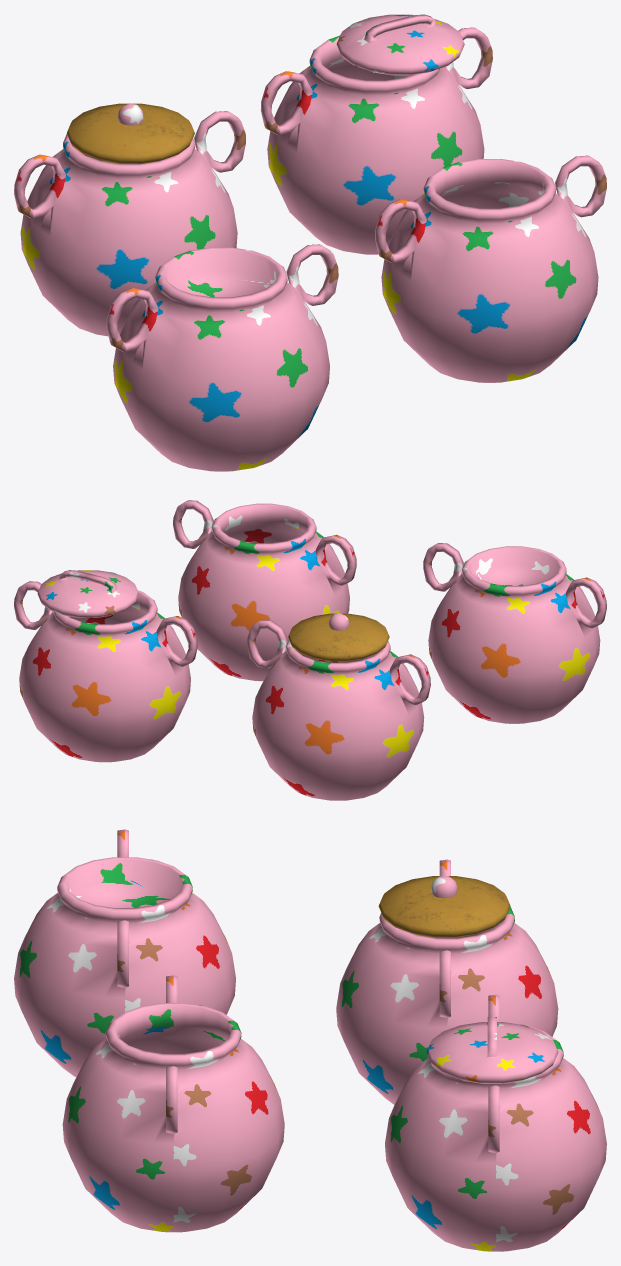
The model's file is Vase.obj.
3 renders of one model, top to bottom at view 1: azimuth 30°, elevation 25°; view 2: azimuth 150°, elevation 25°; view 3: azimuth 270°, elevation 25°, orthographic. The views are drawn at different scales.
Parts seen in each view (by area): view 1: Vase.001_Circle.005, Vase.003_Circle.006, Vase.002_Circle.004, Vase_Circle, Tampa_B_Circle.002, Tampa_A_Circle.003; view 2: Vase.001_Circle.005, Vase.002_Circle.004, Vase_Circle, Vase.003_Circle.006, Tampa_A_Circle.003, Tampa_B_Circle.002; view 3: Vase.003_Circle.006, Vase.002_Circle.004, Vase.001_Circle.005, Vase_Circle, Tampa_B_Circle.002, Tampa_A_Circle.003.
Boxes of the visible parts, x1=… form: Vase.001_Circle.005: x1=106, y1=244, x2=338, y2=471; Vase.003_Circle.006: x1=375, y1=155, x2=606, y2=382; Vase.002_Circle.004: x1=260, y1=27, x2=492, y2=254; Vase_Circle: x1=14, y1=111, x2=245, y2=336; Tampa_B_Circle.002: x1=336, y1=14, x2=464, y2=75; Tampa_A_Circle.003: x1=67, y1=103, x2=194, y2=163; Vase.001_Circle.005: x1=423, y1=543, x2=606, y2=723; Vase.002_Circle.004: x1=14, y1=581, x2=197, y2=762; Vase_Circle: x1=247, y1=619, x2=430, y2=800; Vase.003_Circle.006: x1=173, y1=500, x2=356, y2=681; Tampa_A_Circle.003: x1=288, y1=613, x2=389, y2=661; Tampa_B_Circle.002: x1=37, y1=570, x2=138, y2=617; Vase.003_Circle.006: x1=62, y1=975, x2=284, y2=1232; Vase.002_Circle.004: x1=385, y1=994, x2=606, y2=1251; Vase.001_Circle.005: x1=14, y1=829, x2=235, y2=1076; Vase_Circle: x1=336, y1=859, x2=558, y2=1104; Tampa_B_Circle.002: x1=426, y1=1017, x2=558, y2=1083; Tampa_A_Circle.003: x1=378, y1=876, x2=510, y2=937.
Bounding box in the file's own units: 17.65 × 6.63 × 15.71.
Materials: 5 (5 with a texture image).
